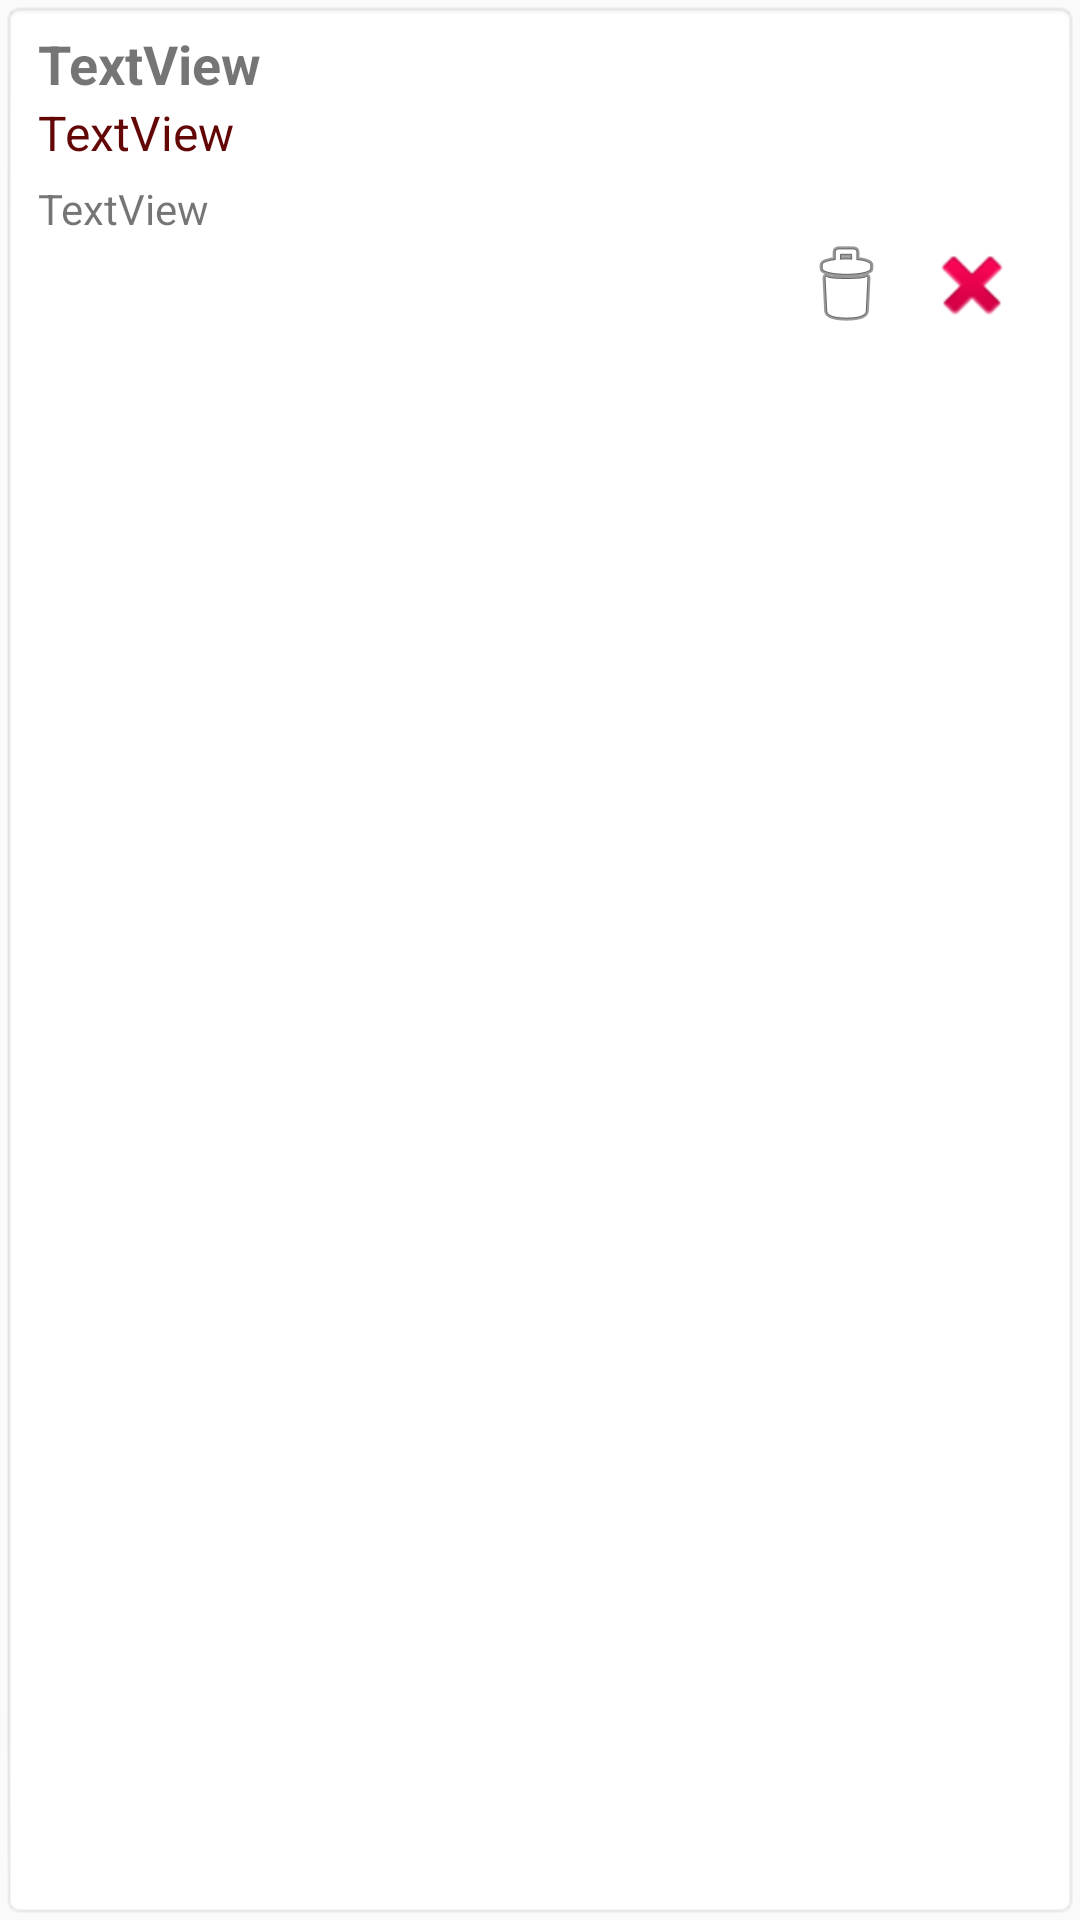

Icon click points for this 1080w x 1920h phone screenshot, format [x,y]:
delete: [846,283], [972,285]
